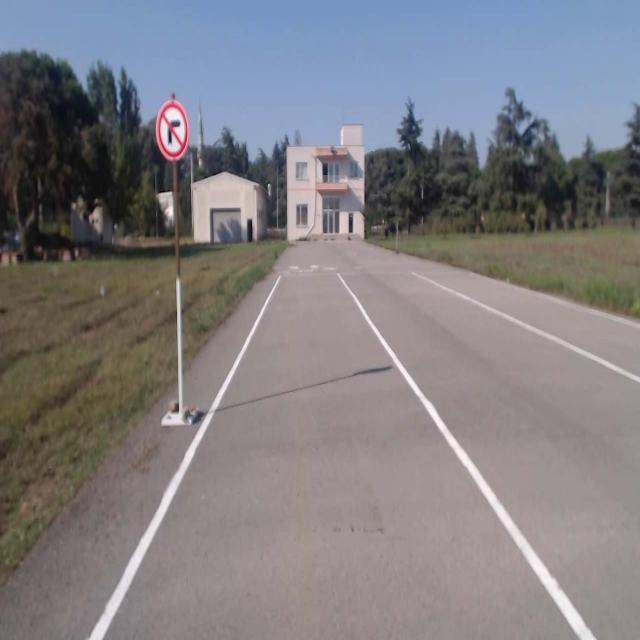sagadonulmez: (155, 100, 189, 162)
